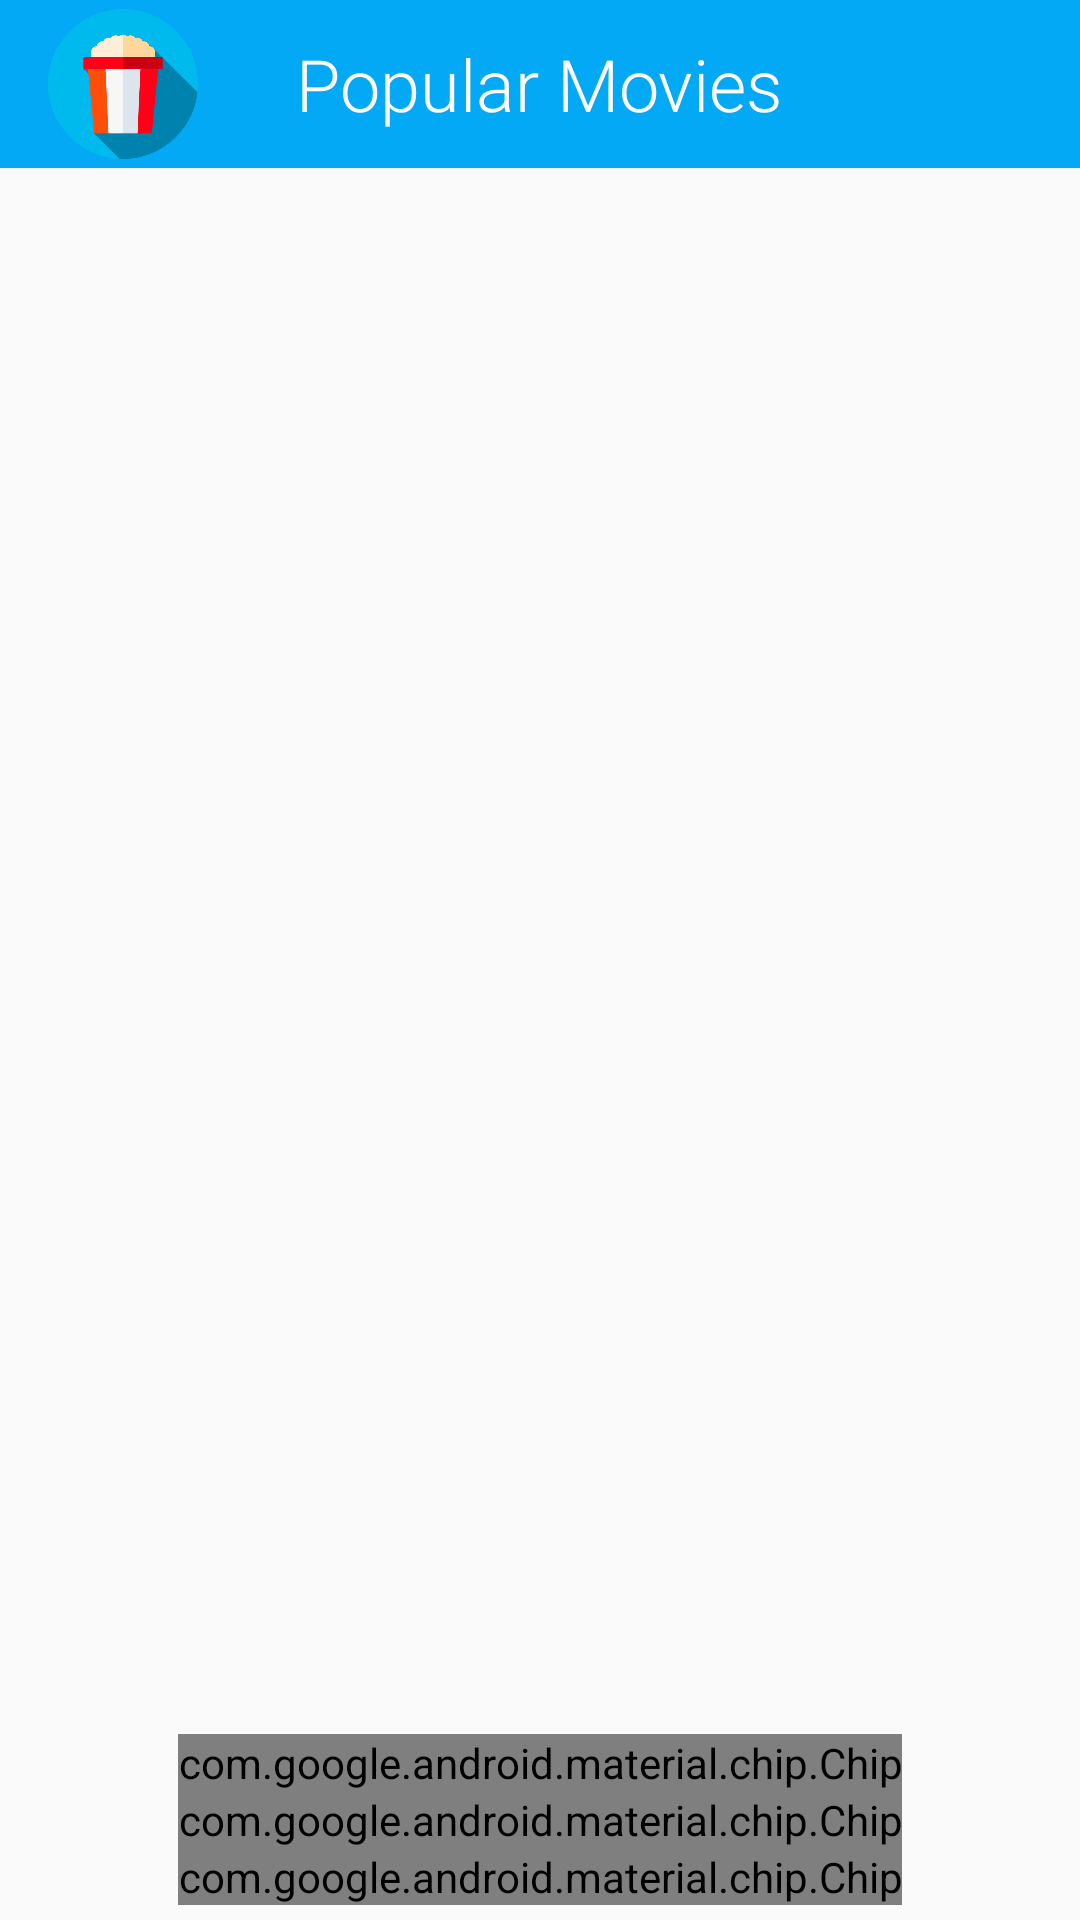

Icon click points for this 1080w x 1920h phone screenshot, format [x,y]:
App Icon: [140,96]
